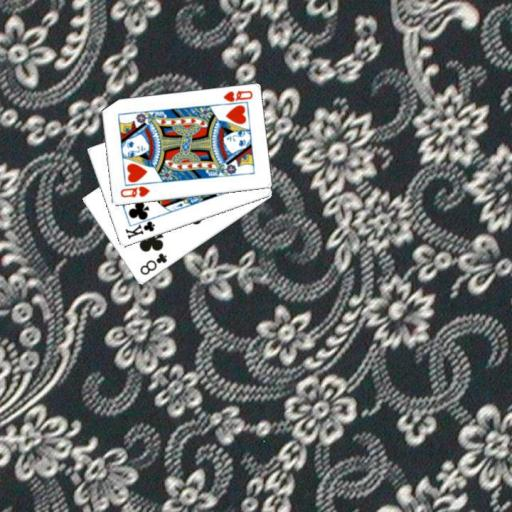8C: (137, 250, 169, 277)
KC: (123, 214, 157, 241)
QH: (217, 88, 254, 108), (117, 184, 151, 199)
